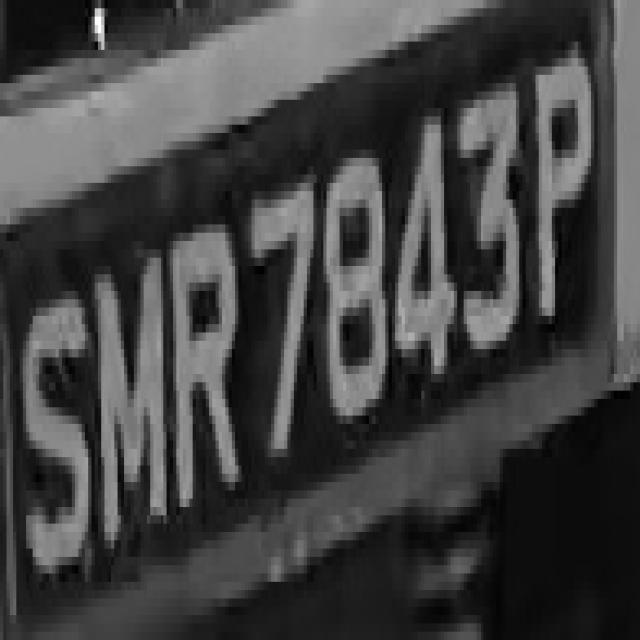3: (451, 75, 529, 382)
4: (382, 92, 460, 416)
7: (235, 183, 320, 482)
8: (307, 141, 389, 449)
M: (94, 224, 170, 548)
P: (516, 58, 601, 333)
R: (167, 200, 248, 540)
S: (13, 257, 95, 574)
